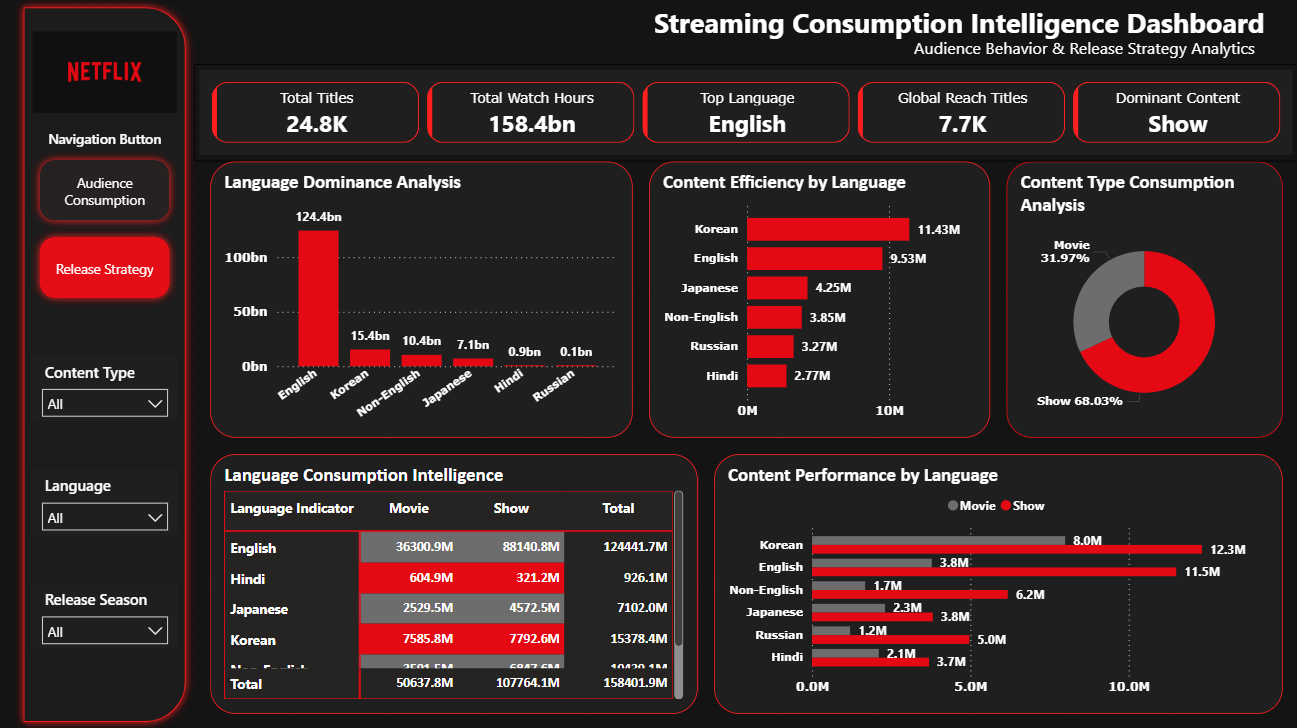

This screenshot's page, from the dashboard's own definition file:
{"tool":"powerbi","page":{"name":"Audience Consumption","canvas":[1280,720],"ordinal":0},"visuals":[{"type":"shape","box":[16,0,176,720],"z":0},{"type":"pivotTable","title":"Language Consumption Intelligence","fields":{"Rows":["streaming_consumption_intelligence.Language Indicator"],"Columns":["streaming_consumption_intelligence.Content Type"],"Values":["Sum(streaming_consumption_intelligence.Hours Viewed)"]},"box":[208,448,480,256],"z":1000},{"type":"donutChart","title":"Content Type Consumption Analysis","fields":{"Category":["streaming_consumption_intelligence.Content Type"],"Y":["Sum(streaming_consumption_intelligence.Hours Viewed)"]},"box":[992,160,272,272],"z":2000},{"type":"cardVisual","fields":{"Data":["streaming_consumption_intelligence.Total Titles","streaming_consumption_intelligence.Total Watch Hours","streaming_consumption_intelligence.Top Language","streaming_consumption_intelligence.Global Reach Titles","streaming_consumption_intelligence.Binge Dominant Content"]},"box":[192,64,1088,96],"z":3000},{"type":"slicer","fields":{"Values":["streaming_consumption_intelligence.Content Type"]},"box":[32,352,144,64],"z":4000},{"type":"slicer","fields":{"Values":["streaming_consumption_intelligence.Language Indicator"]},"box":[32,464,144,64],"z":5000},{"type":"pageNavigator","title":"Navigation Button","box":[32,128,144,176],"z":6000},{"type":"textbox","box":[640,0,624,48],"z":7000},{"type":"textbox","box":[896,32,368,32],"z":8000},{"type":"image","box":[32,32,144,80],"z":9000},{"type":"slicer","fields":{"Values":["streaming_consumption_intelligence.Release Season"]},"box":[32,576,144,64],"z":10000},{"type":"clusteredColumnChart","title":"Language Dominance Analysis","fields":{"Y":["Sum(streaming_consumption_intelligence.Hours Viewed)"],"Category":["streaming_consumption_intelligence.Language Indicator"]},"box":[208,160,416,272],"z":11000},{"type":"clusteredBarChart","title":"Content Performance by Language","fields":{"Category":["streaming_consumption_intelligence.Language Indicator"],"Y":["Avg(streaming_consumption_intelligence.Hours Viewed)"],"Series":["streaming_consumption_intelligence.Content Type"]},"box":[704,448,560,256],"z":14000},{"type":"barChart","title":"Content Efficiency by Language","fields":{"Category":["streaming_consumption_intelligence.Language Indicator"],"Y":["streaming_consumption_intelligence.Avg Watch Hours per Title"]},"box":[640,160,336,272],"z":14003}]}

Visuals, with their boxes in screenshot pixels (x1, y1, x2, y2), scaled from the page's 1280x720 canvas onto the 1297x728 screenshot:
shape: bbox=(16, 0, 195, 727)
"Language Consumption Intelligence" pivotTable: bbox=(211, 453, 697, 712)
"Content Type Consumption Analysis" donutChart: bbox=(1005, 162, 1281, 437)
cardVisual - streaming_consumption_intelligence.Total Titles x streaming_consumption_intelligence.Total Watch Hours: bbox=(195, 65, 1296, 162)
slicer - streaming_consumption_intelligence.Content Type: bbox=(32, 356, 178, 421)
slicer - streaming_consumption_intelligence.Language Indicator: bbox=(32, 469, 178, 534)
"Navigation Button" pageNavigator: bbox=(32, 129, 178, 307)
textbox: bbox=(648, 0, 1281, 49)
textbox: bbox=(908, 32, 1281, 65)
image: bbox=(32, 32, 178, 113)
slicer - streaming_consumption_intelligence.Release Season: bbox=(32, 582, 178, 647)
"Language Dominance Analysis" clusteredColumnChart: bbox=(211, 162, 632, 437)
"Content Performance by Language" clusteredBarChart: bbox=(713, 453, 1281, 712)
"Content Efficiency by Language" barChart: bbox=(648, 162, 989, 437)
